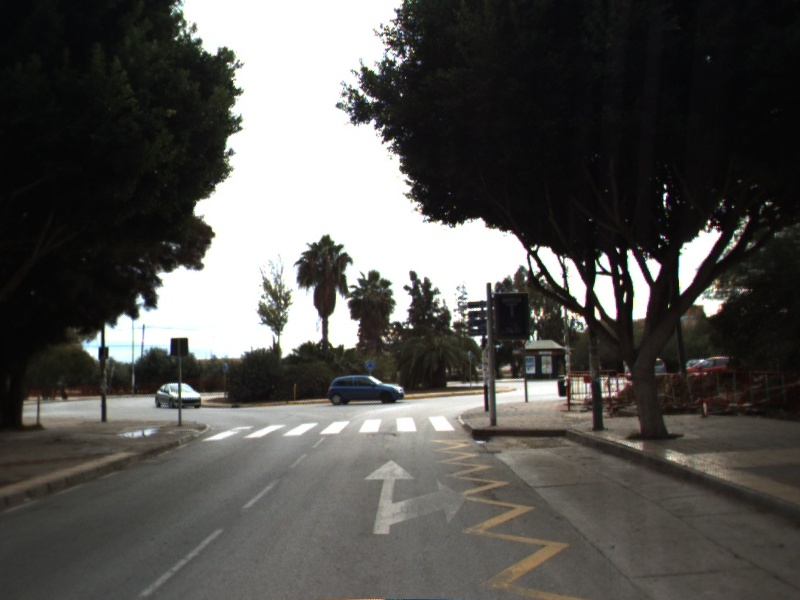STRAIGHT_RIGHT: (361, 457, 469, 536)
